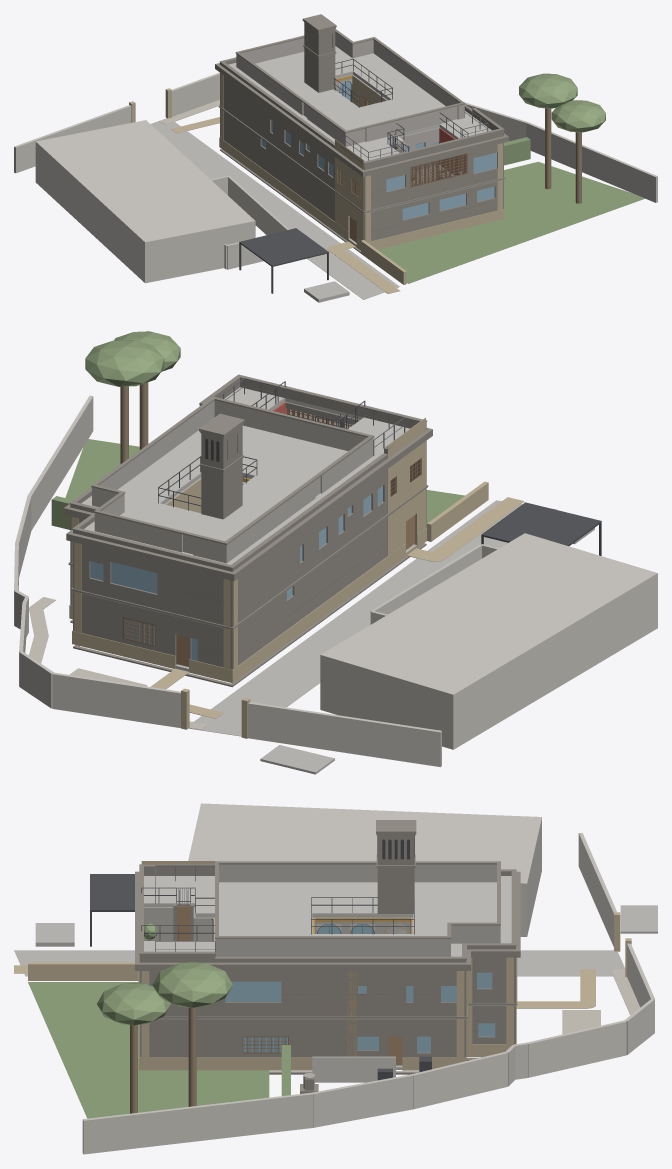
File: taif_house_V11.0.glb
The picture shows the model from 3 angles, top to bottom: view 1: azimuth 30°, elevation 25°; view 2: azimuth 150°, elevation 25°; view 3: azimuth 270°, elevation 25°; orthographic projection. The views are drawn at different scales.
Visible parts, largest first — view 1: chr_site_plaster_old_house, chr_site_foliage_garden, roof_finish_floor, roof_attic_wall, chr_site_plaster_farm_wall_north_east, chr_site_concrete_driveway, gf_outer, ff_outer, chr_base_honey_plinth, roof_cornice, chr_site_steel_old_carport, chr_site_plaster_old_annex (+23 smaller); view 2: chr_site_plaster_old_house, roof_finish_floor, roof_attic_wall, chr_site_plaster_farm_wall_north_east, gf_outer, ff_outer, chr_site_concrete_driveway, chr_site_plaster_farm_wall_north, chr_base_honey_plinth, roof_cornice, chr_base_honey_feature_wall_00, chr_site_steel_old_carport (+28 smaller); view 3: chr_site_plaster_farm_wall_north_east, chr_site_plaster_old_house, roof_finish_floor, chr_site_foliage_garden, roof_attic_wall, gf_outer, ff_outer, chr_site_concrete_driveway, roof_cornice, chr_base_honey_plinth, chr_site_foliage_palm_1_crown, chr_base_honey_quoins (+32 smaller).
Boxes of the visible parts, bbox=[...] form: chr_site_plaster_old_house: bbox=[35, 120, 255, 283]; chr_site_foliage_garden: bbox=[377, 161, 644, 283]; roof_finish_floor: bbox=[228, 46, 491, 161]; roof_attic_wall: bbox=[236, 32, 464, 146]; chr_site_plaster_farm_wall_north_east: bbox=[172, 72, 657, 202]; chr_site_concrete_driveway: bbox=[151, 118, 399, 299]; gf_outer: bbox=[220, 108, 503, 241]; ff_outer: bbox=[220, 73, 503, 211]; chr_base_honey_plinth: bbox=[219, 137, 504, 250]; roof_cornice: bbox=[215, 63, 508, 176]; chr_site_steel_old_carport: bbox=[239, 228, 328, 293]; chr_site_plaster_old_annex: bbox=[211, 175, 288, 269]; chr_site_plaster_old_house: bbox=[320, 533, 657, 749]; roof_finish_floor: bbox=[81, 387, 409, 564]; roof_attic_wall: bbox=[92, 400, 373, 563]; chr_site_plaster_farm_wall_north_east: bbox=[14, 395, 180, 727]; gf_outer: bbox=[70, 488, 426, 669]; ff_outer: bbox=[70, 402, 426, 627]; chr_site_concrete_driveway: bbox=[188, 500, 556, 736]; chr_site_plaster_farm_wall_north: bbox=[248, 702, 441, 767]; chr_base_honey_plinth: bbox=[69, 528, 426, 683]; roof_cornice: bbox=[63, 428, 432, 580]; chr_base_honey_feature_wall_00: bbox=[387, 417, 425, 555]; chr_site_steel_old_carport: bbox=[481, 502, 601, 555]; chr_site_plaster_farm_wall_north_east: bbox=[82, 943, 654, 1154]; chr_site_plaster_old_house: bbox=[188, 803, 541, 936]; roof_finish_floor: bbox=[144, 876, 511, 956]; chr_site_foliage_garden: bbox=[28, 982, 269, 1118]; roof_attic_wall: bbox=[215, 864, 500, 956]; gf_outer: bbox=[139, 1006, 515, 1057]; ff_outer: bbox=[139, 957, 515, 1016]; chr_site_concrete_driveway: bbox=[14, 950, 625, 976]; roof_cornice: bbox=[135, 871, 520, 970]; chr_base_honey_plinth: bbox=[139, 1025, 516, 1070]; chr_site_foliage_palm_1_crown: bbox=[152, 961, 232, 1007]; chr_base_honey_quoins: bbox=[139, 957, 516, 1057].
Size of the model in its own units: 45.39 by 13.85 by 41.5.
